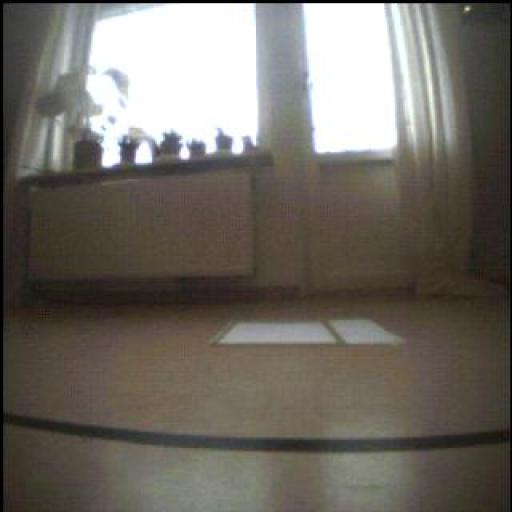Pad: (216, 318, 410, 350)
